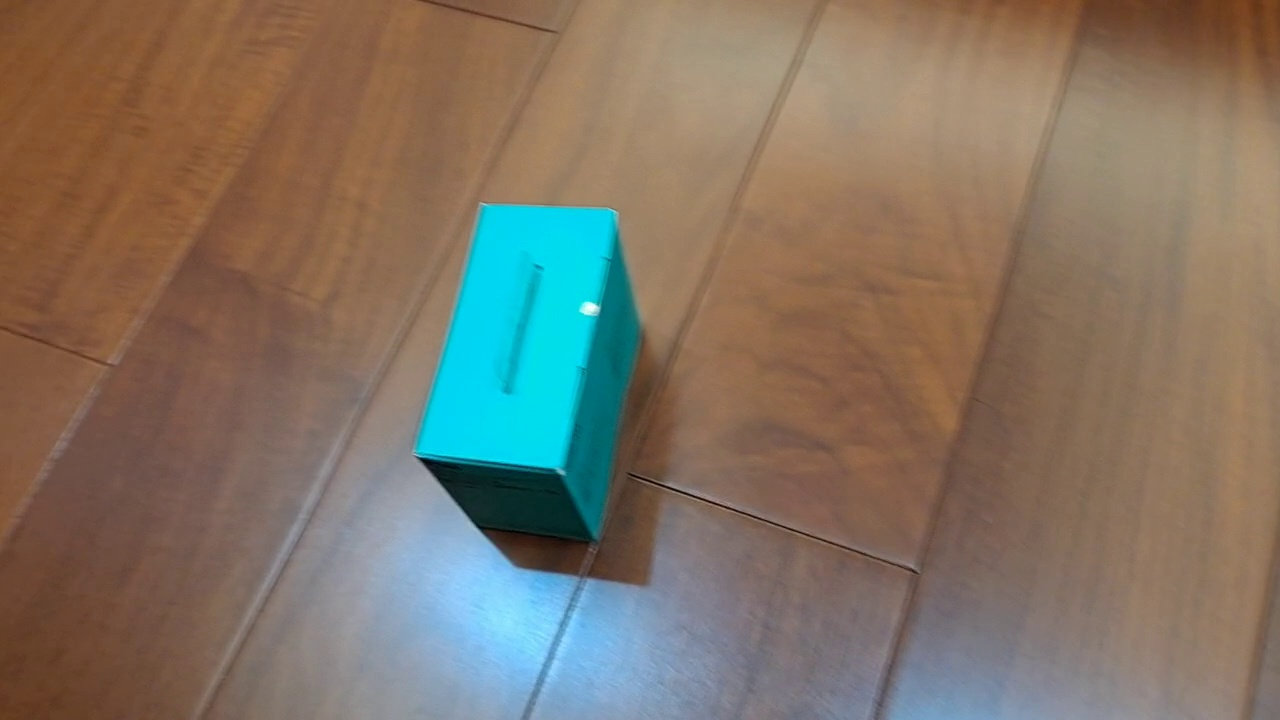webcam: (409, 200, 644, 546)
